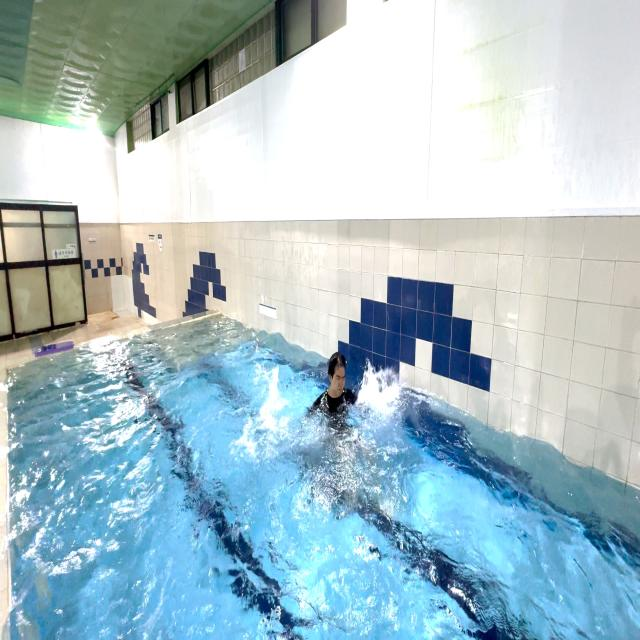Swimming: (246, 344, 403, 460)
